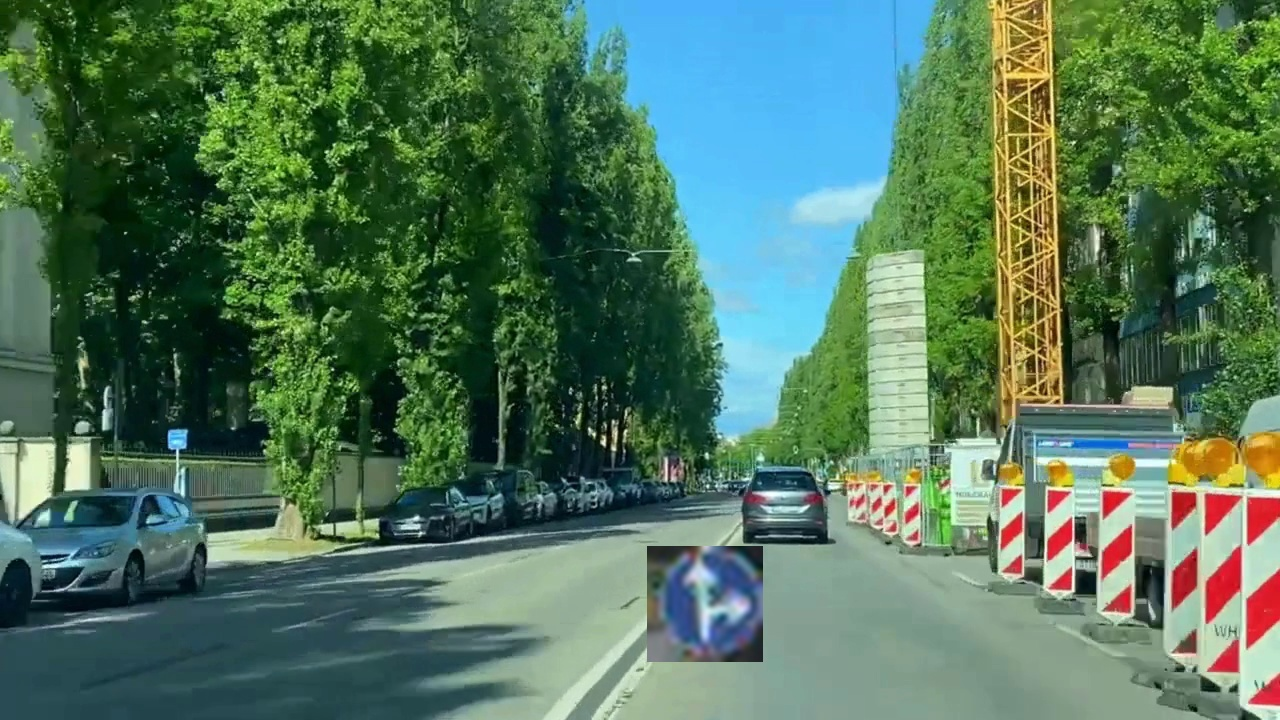Straight/right: (647, 546, 763, 662)
